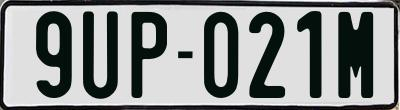0: (203, 10, 239, 96)
1: (296, 8, 322, 97)
2: (246, 12, 283, 103)
9: (36, 9, 78, 101)
M: (337, 11, 376, 103)
P: (130, 11, 167, 103)
U: (81, 9, 121, 98)
